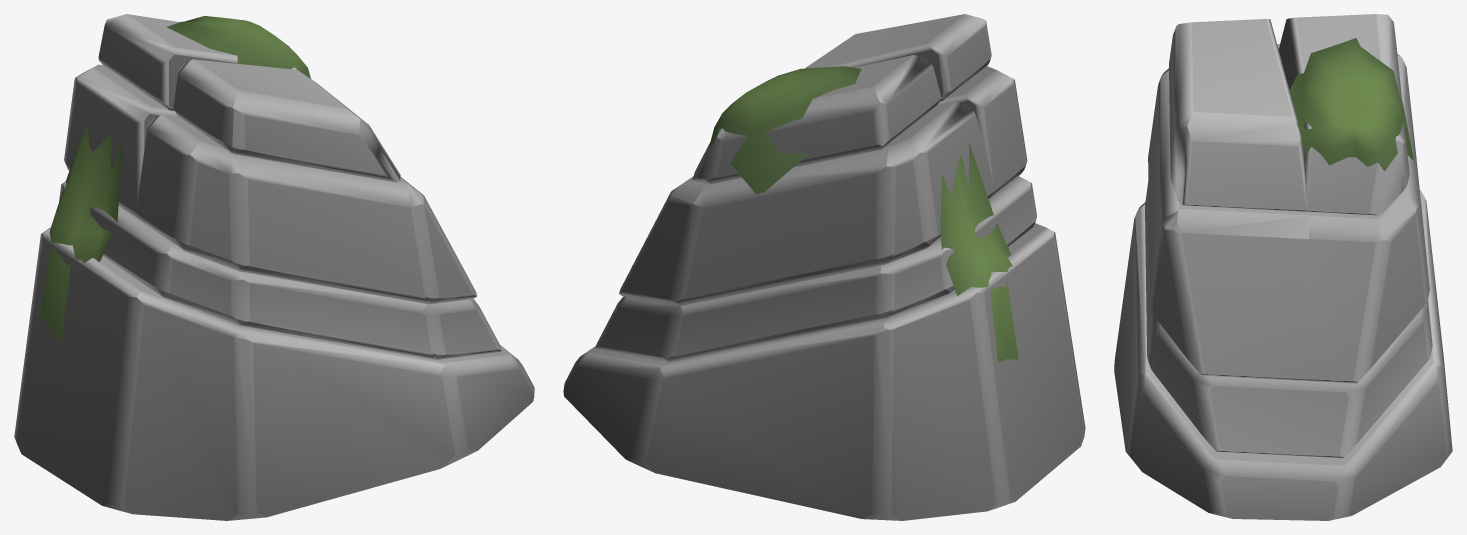
Rendered from rock_ledge.glb.
The picture shows the model from 3 angles, left to right: view 1: azimuth 30°, elevation 25°; view 2: azimuth 150°, elevation 25°; view 3: azimuth 270°, elevation 25°; orthographic projection. The views are drawn at different scales.
Parts seen in each view (by area): view 1: rock_ledge_LOD0; view 2: rock_ledge_LOD0; view 3: rock_ledge_LOD0.
Part boxes in pixels (x1=…): rock_ledge_LOD0: x1=14, y1=14, x2=534, y2=520; rock_ledge_LOD0: x1=563, y1=14, x2=1085, y2=520; rock_ledge_LOD0: x1=1114, y1=14, x2=1452, y2=520.
Size of what is drawn, in the model's own units: 1.13 by 0.9415 by 0.8025.
